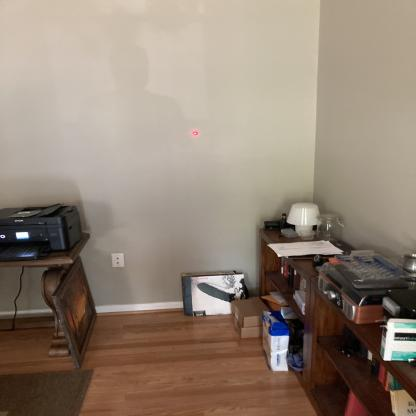target: (190, 129, 206, 136)
